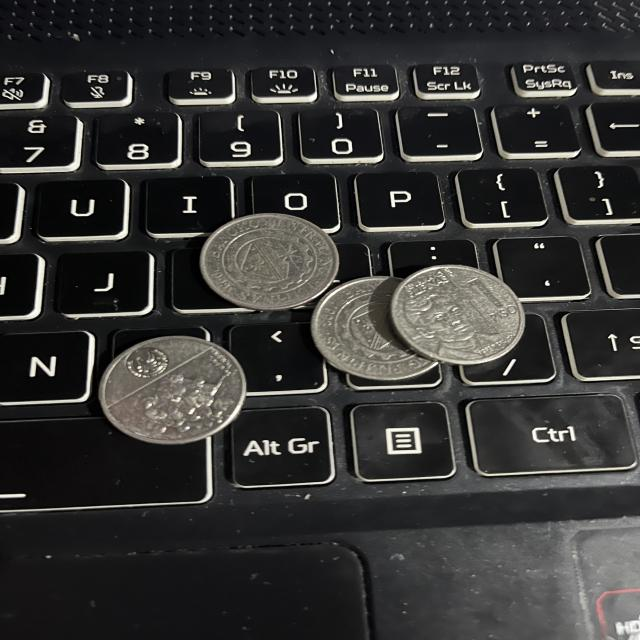1_New_Back: (136, 358, 240, 433)
1_New_Front: (468, 278, 523, 328)
1_Old_Back: (310, 275, 445, 376), (202, 215, 332, 308)
